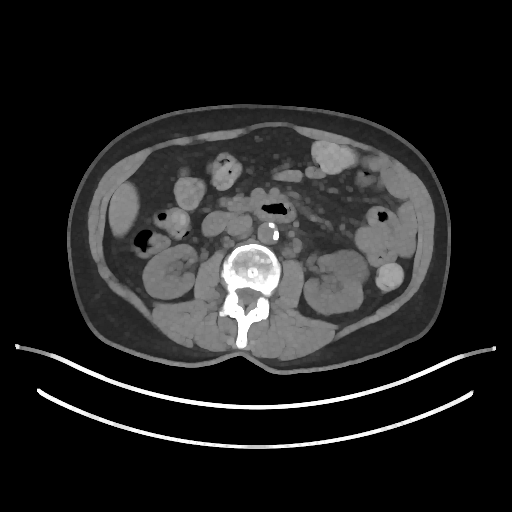Lesion: (316, 248, 370, 288)
